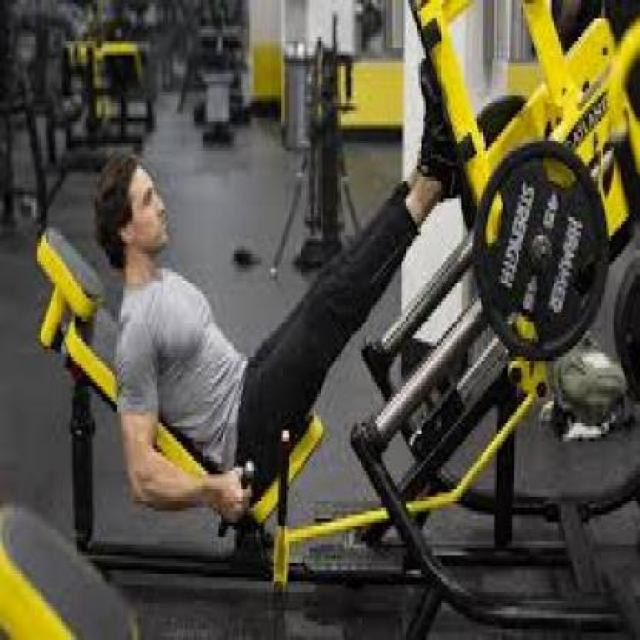leg press: (26, 0, 639, 585)
